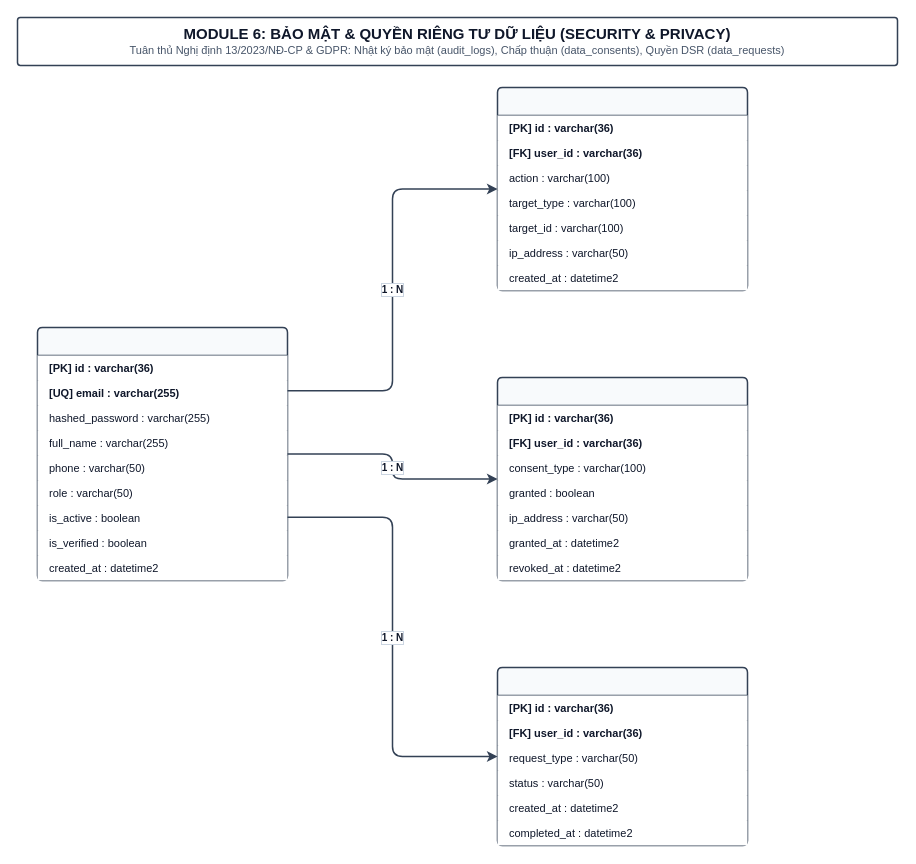
Some shapes in this 916 by 864 pixel diagram are drawn without their labels. Here are the shapes that lost their labels. From the top down, the box of each, then its label:
(496, 86, 748, 291): audit_logs (sec)
(36, 326, 288, 581): users (auth)
(496, 376, 748, 581): data_consents (sec)
(496, 666, 748, 846): data_requests (sec)
